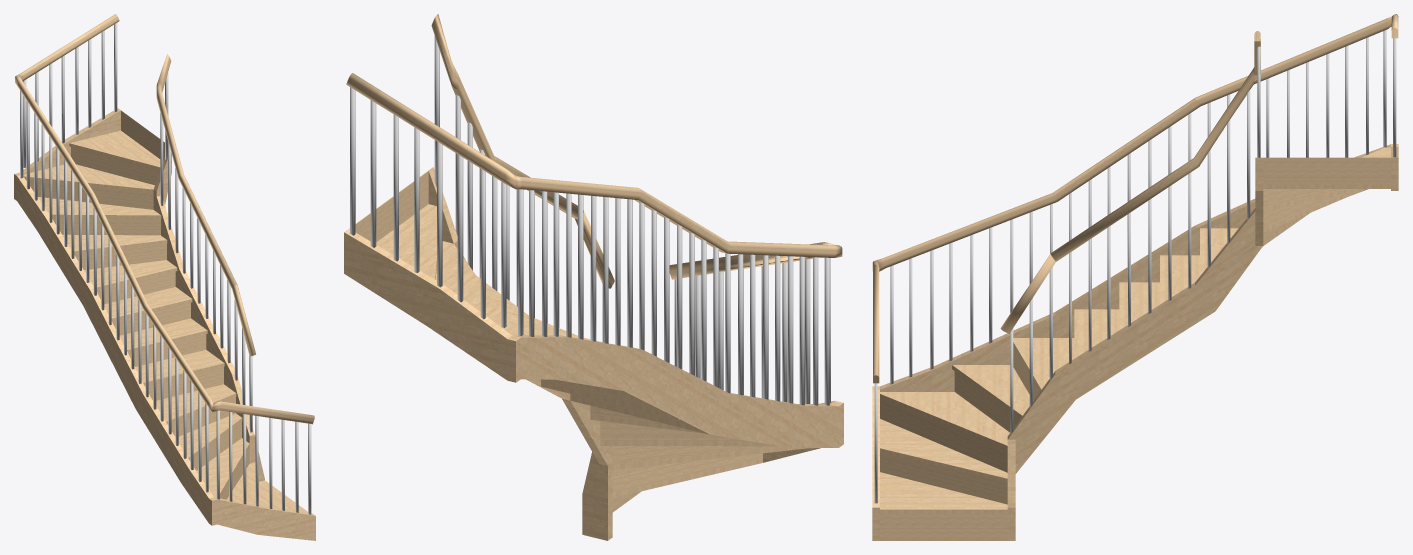
Rendered from sweethome3d-contributions-double-winder-staircase.glb.
The picture shows the model from 3 angles, left to right: view 1: azimuth 30°, elevation 25°; view 2: azimuth 150°, elevation 25°; view 3: azimuth 270°, elevation 25°; orthographic projection. The views are drawn at different scales.
Parts seen in each view (by area): view 1: 6_6, 19_19, 1_1, 27_27.001_27_27.000, 27_27.001_27_27.004, 2_2, 27_27.002, 2_2.000, 27_27.000, 2_2.003, 2_2.000_2_2.003, 2_2.001; view 2: 1_1, 27_27.001_27_27.000, 6_6, 19_19, 27_27.000, 2_2, 2_2.000, 27_27.001_27_27.004, 27_27.002, 2_2.000_2_2.003, 2_2.003, 2_2.001; view 3: 6_6, 19_19, 2_2, 1_1, 27_27.001_27_27.000, 27_27.001_27_27.004, 2_2.000, 2_2.003, 2_2.001.
Part boxes in pixels (x1,y1,x2,y2): 6_6: [23, 130, 307, 512]; 19_19: [26, 110, 249, 499]; 1_1: [14, 108, 315, 540]; 27_27.001_27_27.000: [20, 90, 208, 492]; 27_27.001_27_27.004: [160, 72, 252, 432]; 2_2: [153, 152, 264, 481]; 27_27.002: [216, 410, 311, 514]; 2_2.000: [15, 75, 213, 411]; 27_27.000: [23, 23, 117, 167]; 2_2.003: [156, 54, 255, 356]; 2_2.000_2_2.003: [17, 14, 119, 81]; 2_2.001: [212, 401, 314, 424]; 1_1: [344, 229, 843, 462]; 27_27.001_27_27.000: [518, 189, 829, 405]; 6_6: [376, 204, 806, 497]; 19_19: [349, 170, 776, 512]; 27_27.000: [350, 87, 506, 327]; 2_2: [428, 167, 612, 540]; 2_2.000: [514, 174, 842, 257]; 27_27.001_27_27.004: [434, 36, 603, 341]; 27_27.002: [674, 258, 830, 403]; 2_2.000_2_2.003: [346, 73, 515, 188]; 2_2.003: [431, 14, 614, 288]; 2_2.001: [669, 242, 837, 279]; 6_6: [880, 147, 1390, 513]; 19_19: [880, 157, 1390, 540]; 2_2: [1007, 157, 1263, 540]; 1_1: [872, 144, 1398, 540]; 27_27.001_27_27.000: [890, 30, 1386, 384]; 27_27.001_27_27.004: [1010, 46, 1260, 434]; 2_2.000: [875, 15, 1392, 271]; 2_2.003: [1000, 31, 1260, 333]; 2_2.001: [872, 261, 879, 383].
Bounding box in the file's own units: 100 × 353 × 330.
Materials: 11 (7 with a texture image).
